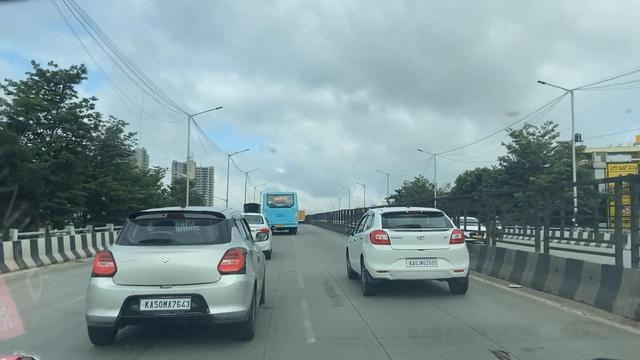HMV: (261, 174, 309, 237)
LMV: (84, 179, 285, 351), (347, 203, 481, 301)
